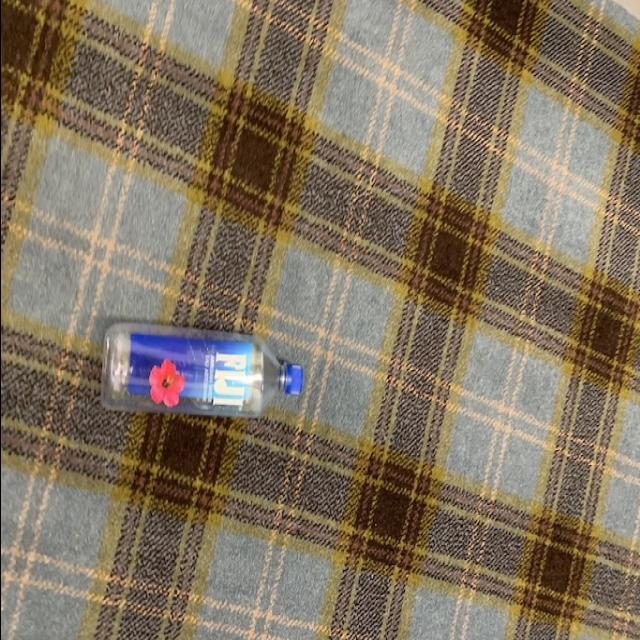PET: (94, 318, 306, 422)
